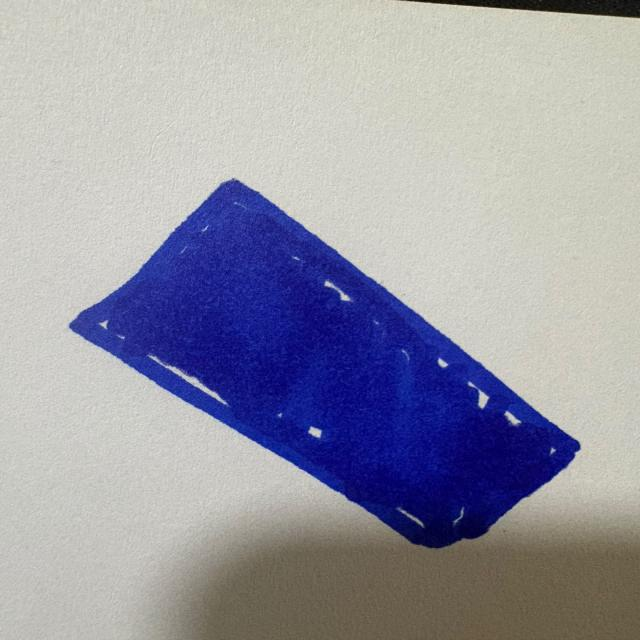Rectangle: (70, 180, 580, 548)
